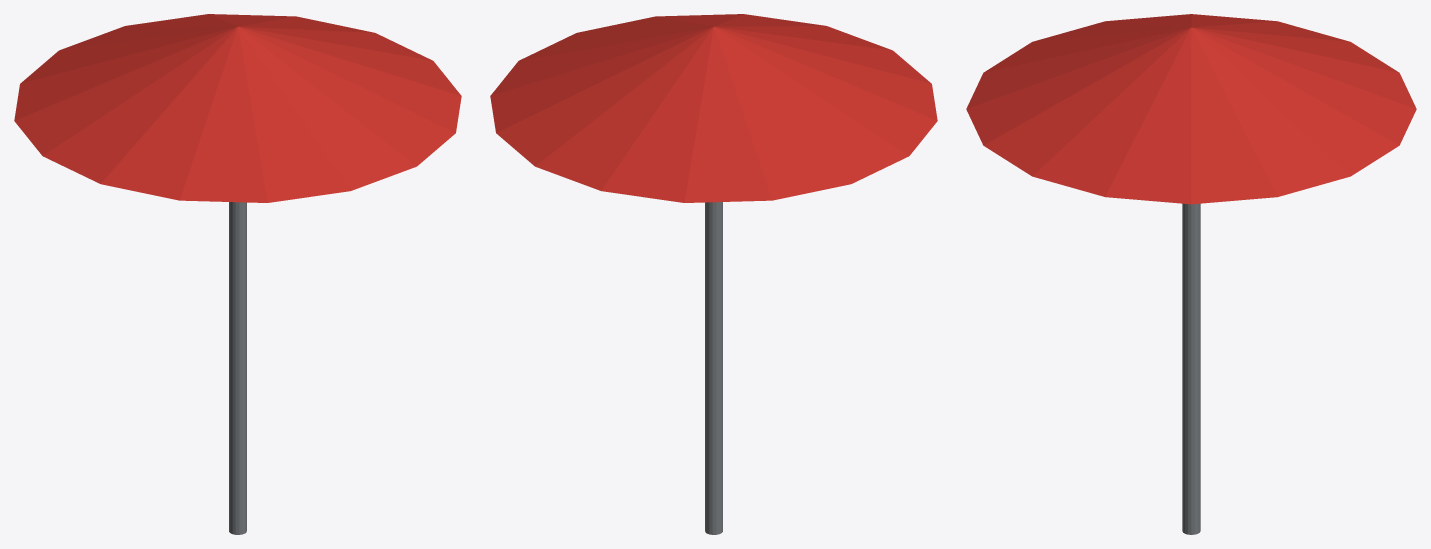
The model's file is Prop_Street_032.glb.
The picture shows the model from 3 angles, left to right: view 1: azimuth 30°, elevation 25°; view 2: azimuth 150°, elevation 25°; view 3: azimuth 270°, elevation 25°; orthographic projection.
Visible parts, largest first — view 1: Prop_Street_032; view 2: Prop_Street_032; view 3: Prop_Street_032.
Part boxes in pixels (x1,y1,x2,y2): Prop_Street_032: (14,14,461,534); Prop_Street_032: (490,14,937,534); Prop_Street_032: (966,14,1416,534).
Bounding box in the file's own units: 3 × 3.7 × 3.
